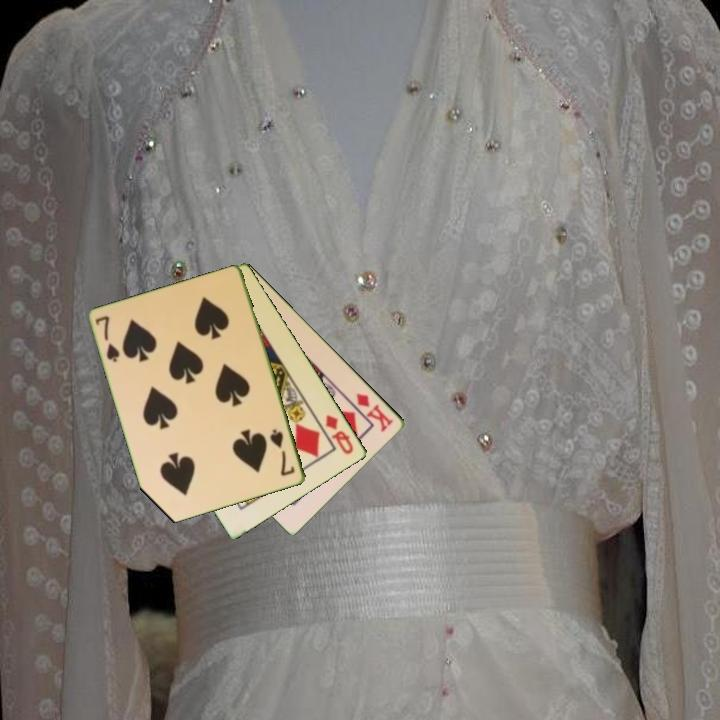7s: (267, 426, 298, 479), (92, 312, 123, 365)
Kd: (353, 389, 397, 435)
Qd: (322, 411, 357, 457)
